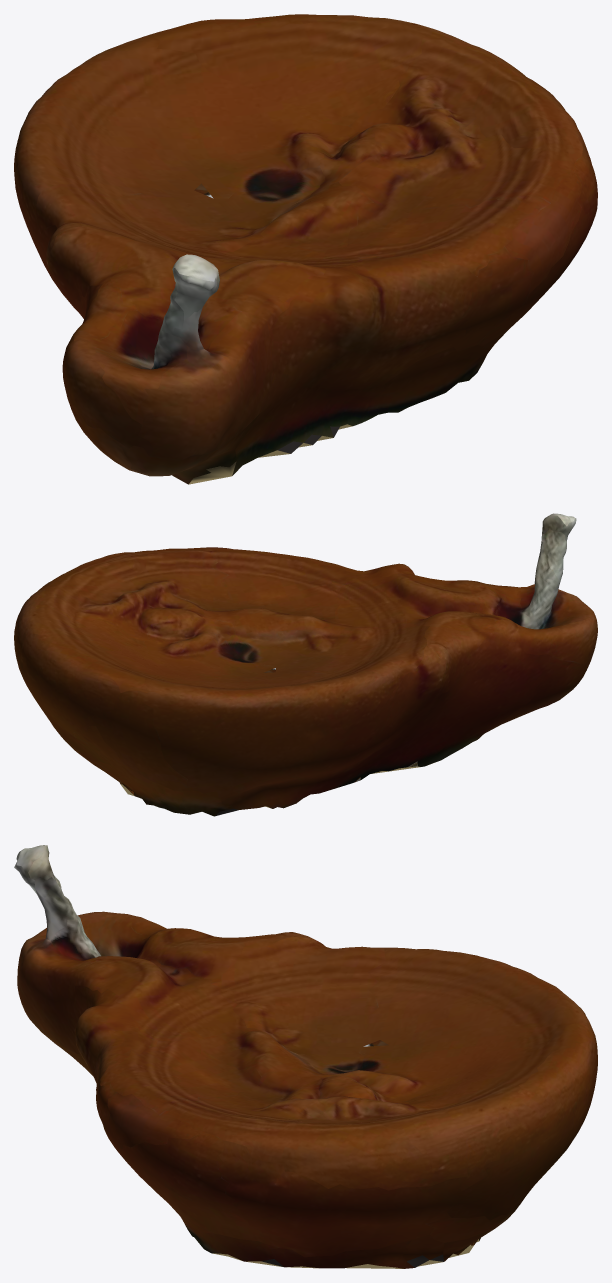
Rendered from oil_lamp_new trial.fbx.
The picture shows the model from 3 angles, top to bottom: view 1: azimuth 30°, elevation 25°; view 2: azimuth 150°, elevation 25°; view 3: azimuth 270°, elevation 25°; orthographic projection. The views are drawn at different scales.
Visible parts, largest first — view 1: Object, Object.001; view 2: Object; view 3: Object.
Boxes of the visible parts, left/top/right/bottom form: Object: left=14, top=14, right=597, bottom=484; Object.001: left=189, top=424, right=352, bottom=484; Object: left=14, top=513, right=597, bottom=816; Object: left=14, top=845, right=597, bottom=1268.
Bounding box in the file's own units: 96.17 × 44.09 × 89.78.
